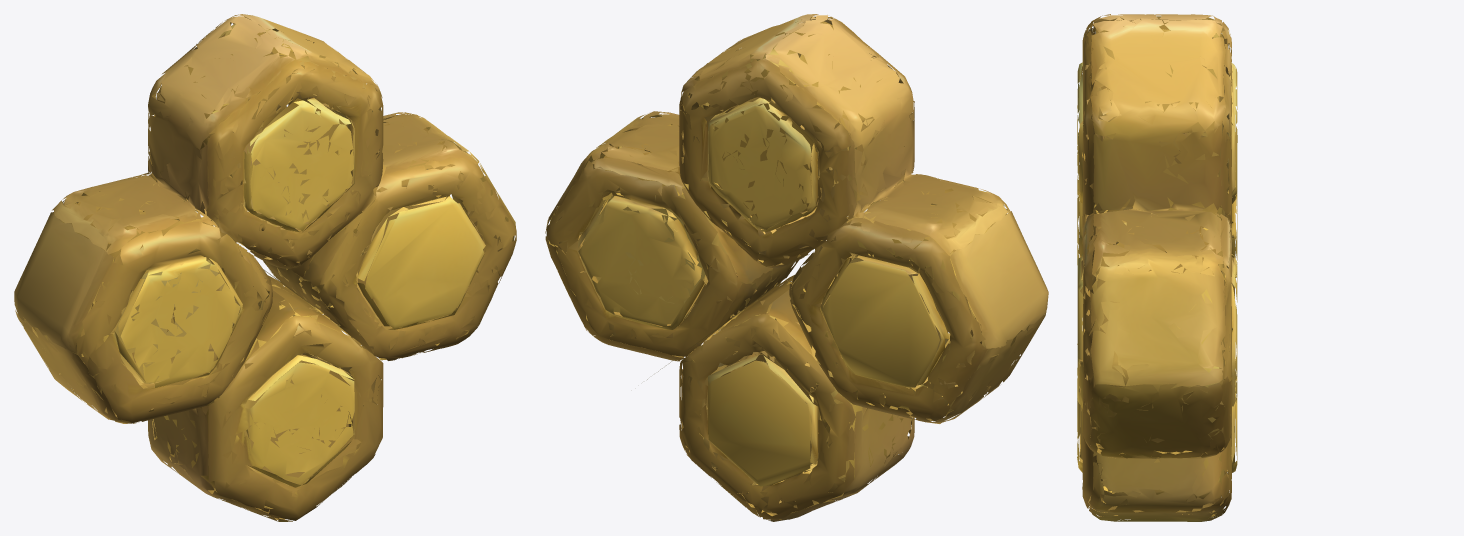
The model's file is sand.glb.
The picture shows the model from 3 angles, left to right: view 1: azimuth 30°, elevation 25°; view 2: azimuth 150°, elevation 25°; view 3: azimuth 270°, elevation 25°; orthographic projection. The views are drawn at different scales.
Size of the model in its own units: 0.12 by 0.1194 by 0.0807.
1 material, 1 textured.
